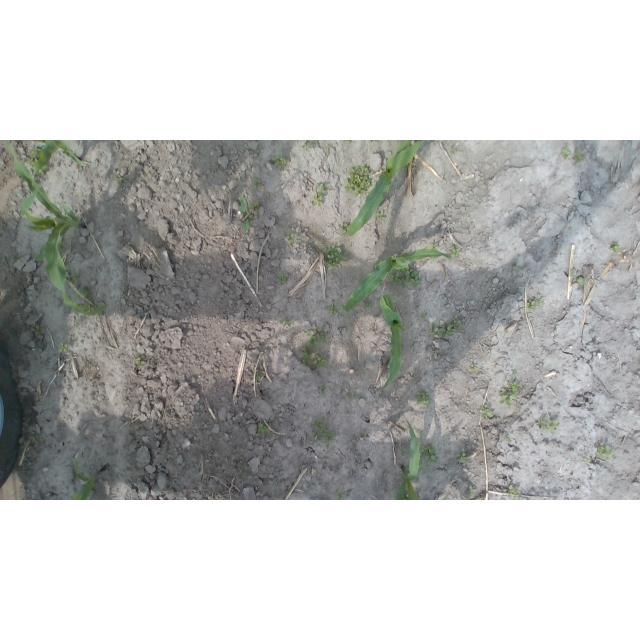Maize: (8, 151, 109, 316), (345, 140, 428, 236), (342, 249, 455, 312), (377, 291, 408, 392), (396, 416, 421, 501), (72, 453, 100, 500)
Weeds: (302, 329, 329, 371), (344, 162, 373, 196), (385, 264, 423, 288), (237, 196, 260, 235), (426, 317, 462, 339), (499, 371, 521, 405), (311, 419, 334, 443), (28, 152, 47, 176), (596, 440, 617, 460), (313, 181, 327, 208), (526, 292, 544, 312), (422, 442, 438, 464), (28, 324, 48, 340), (329, 246, 344, 266), (479, 403, 494, 422), (569, 270, 585, 287), (563, 151, 590, 161), (271, 156, 288, 171), (283, 231, 301, 245), (417, 393, 432, 409), (505, 485, 522, 499), (540, 421, 561, 432), (133, 357, 147, 371), (257, 420, 268, 436), (275, 274, 287, 287), (57, 342, 68, 355), (376, 211, 387, 222), (459, 451, 466, 466)
